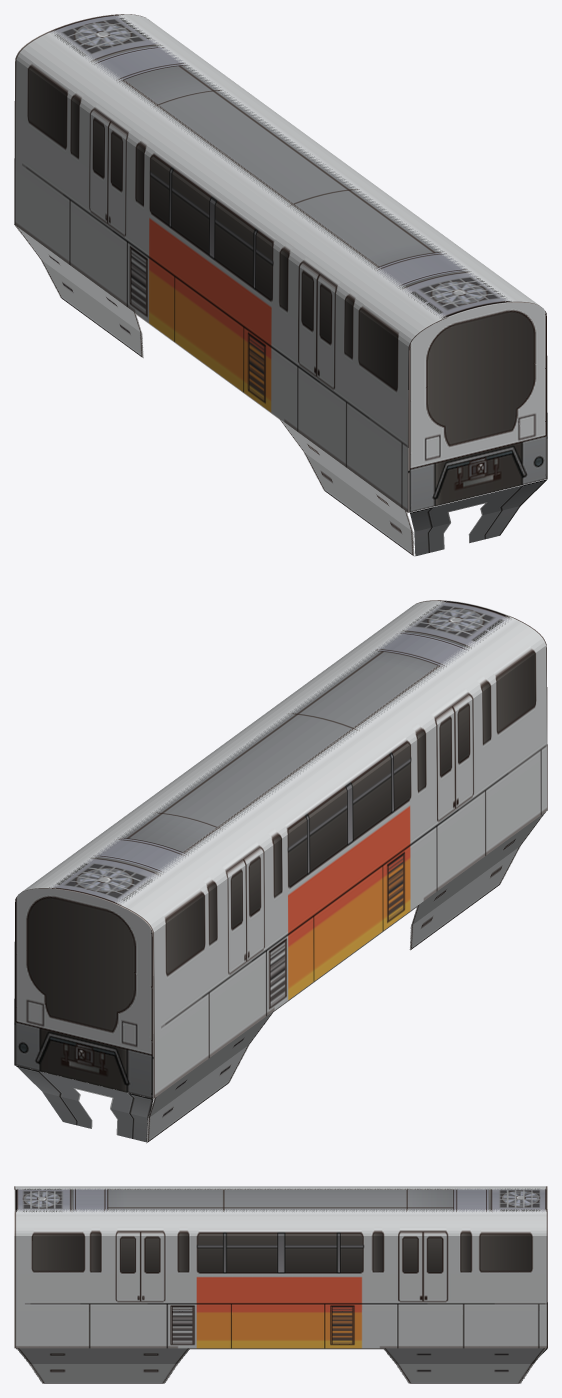
Rendered from car2.glb.
3 views of the same model, one above another, from view 1: azimuth 30°, elevation 25°; view 2: azimuth 150°, elevation 25°; view 3: azimuth 270°, elevation 25° (orthographic). The views are drawn at different scales.
Parts seen in each view (by area): view 1: tamamono1000-car2; view 2: tamamono1000-car2; view 3: tamamono1000-car2.
Boxes of the visible parts, x1=… form: tamamono1000-car2: x1=14, y1=14, x2=547, y2=556; tamamono1000-car2: x1=14, y1=600, x2=547, y2=1143; tamamono1000-car2: x1=14, y1=1186, x2=547, y2=1383.
Size of the model in its own units: 2.98 by 5.18 by 14.63.
Materials: 8 (7 with a texture image).
